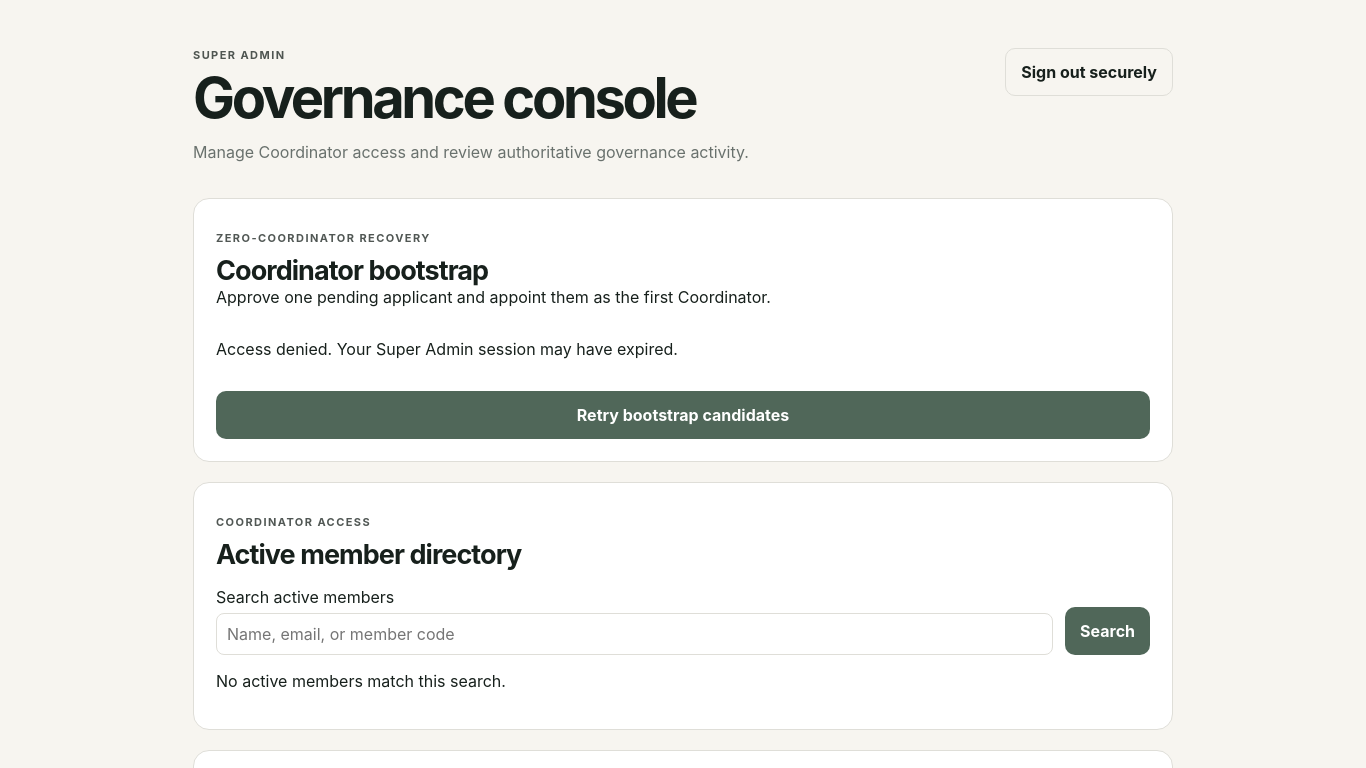
SuperAdminConsole › shows retry, duplicate-roll, and single-flight bootstrap states
expect the text "Access denied. Your Super Admin session may have expired." is shown: met, box [216, 339, 678, 359]
Click the button "Retry bootstrap candidates": (683, 415) [216, 391, 1150, 439]
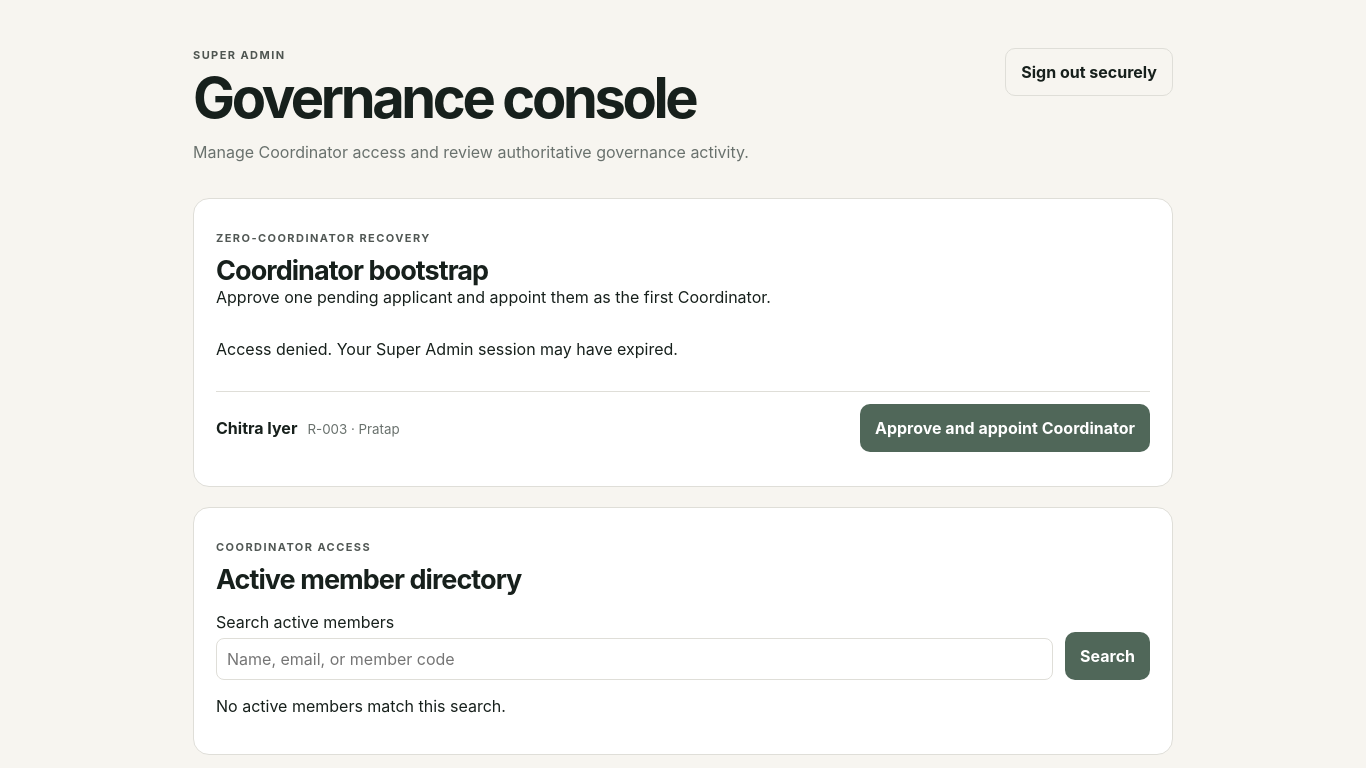
Click the button with aria-label "Approve and appoint Coordinator for Chitra Iyer": (1005, 428) [860, 404, 1150, 452]
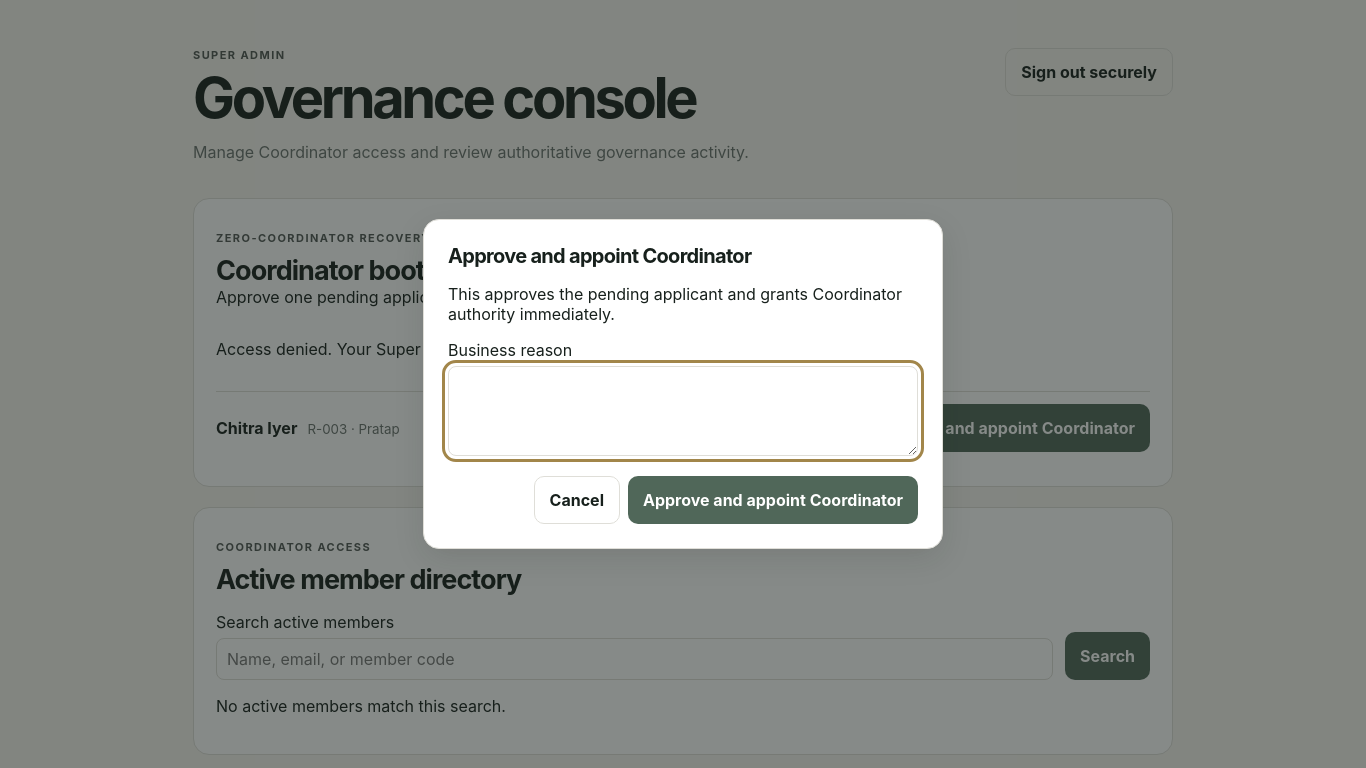
In the text box labelled "Business reason": (683, 411) [448, 366, 918, 456], type "Coverage"
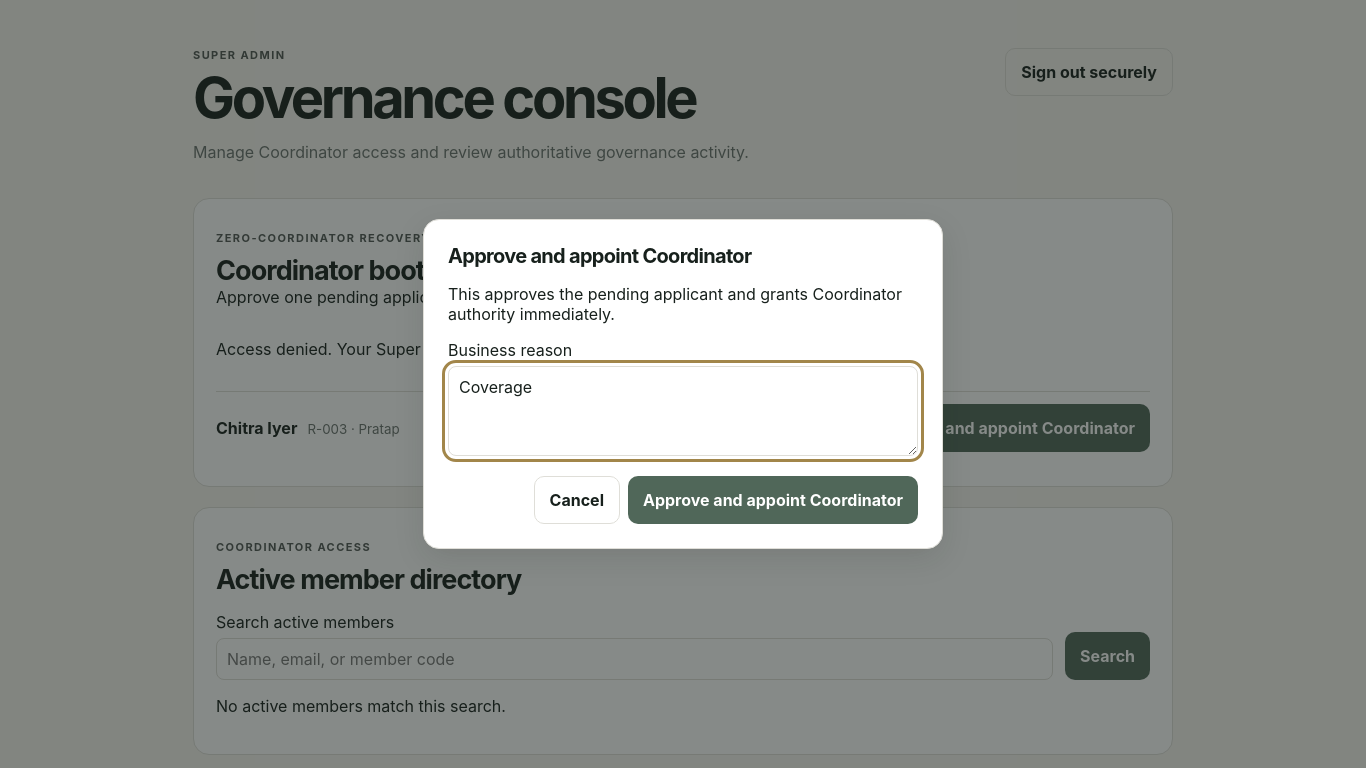
Click the button "Approve and appoint Coordinator": (773, 500) [628, 476, 918, 524]
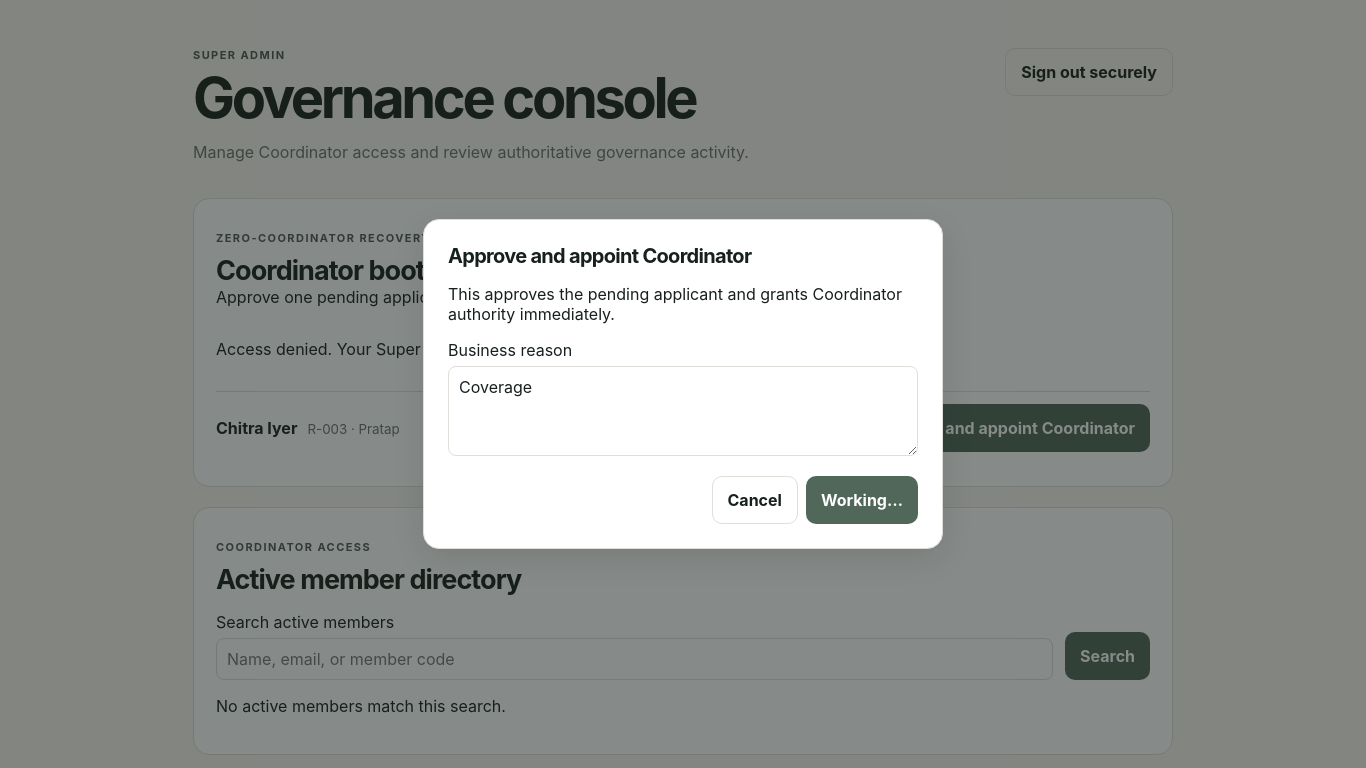
Click the button named "Approve and appoint Coordinator": (862, 500) [806, 476, 918, 524]
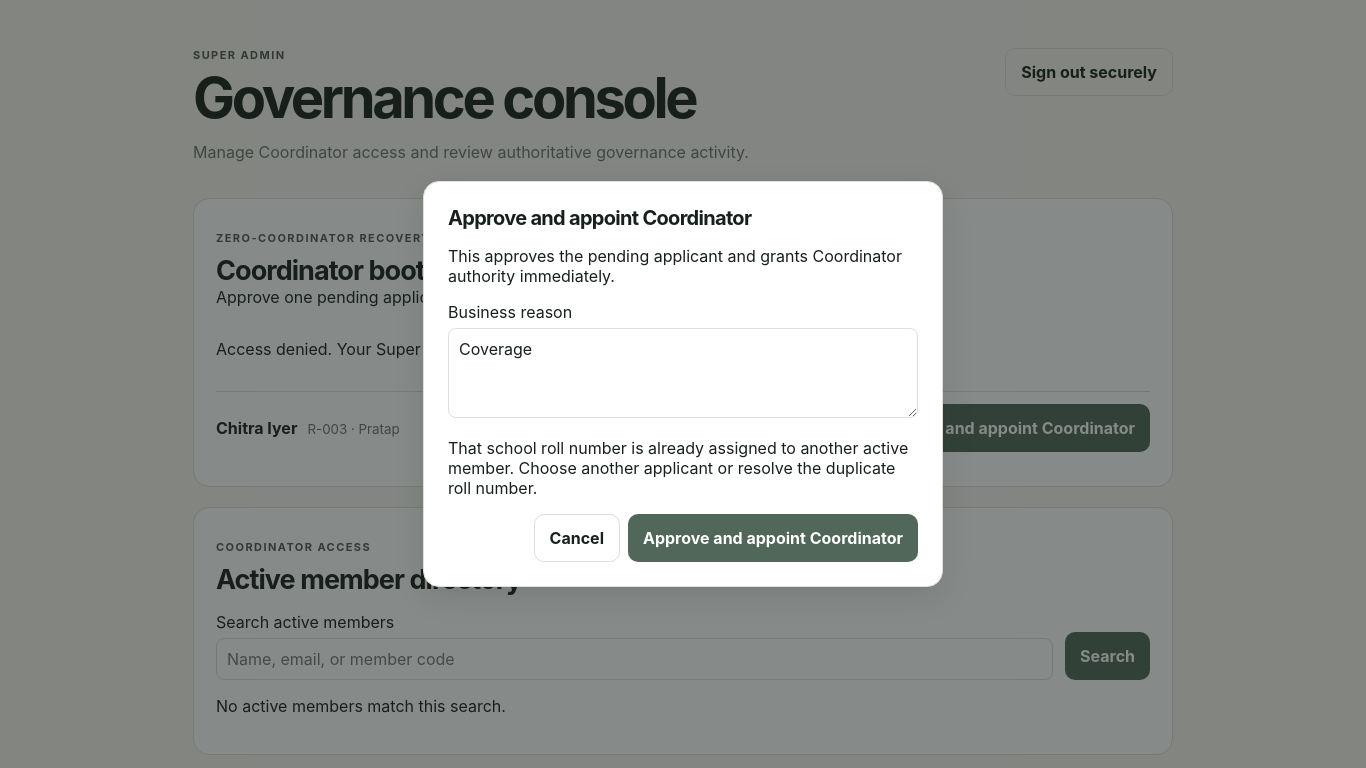
expect the 2nd message shows "That school roll number is already assigned to another active member. Choose another applicant or resolve the duplicate roll number.": met, box [448, 438, 908, 498]
